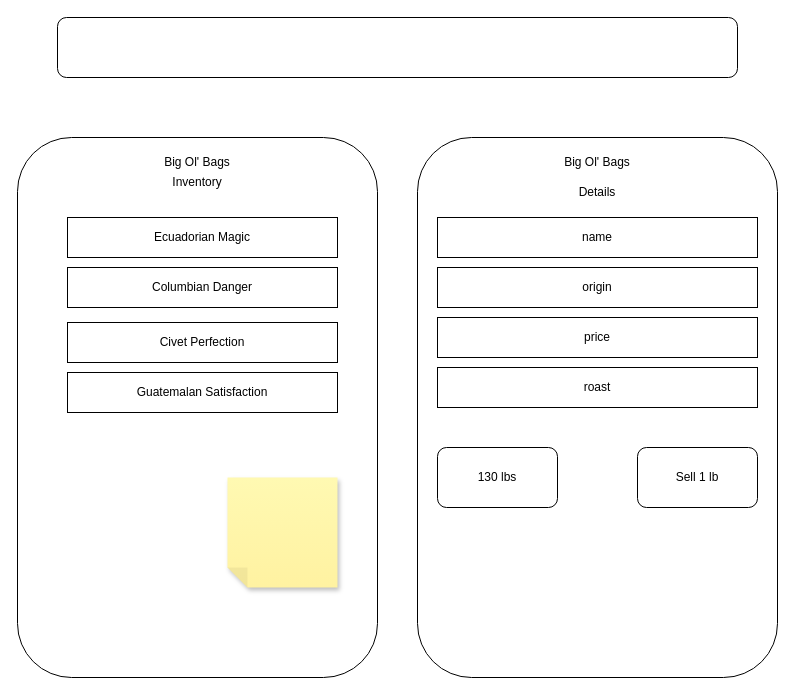
Some shapes in this 795 by 695 pixel diagram are drawn without their labels. The shapes that lost their labels are listed below. From the top down, each one's centre as x and y in pixels, then its label:
pixel 397 47: Cultured Beans Inventory Tracker
pixel 283 533: Click name for details view
